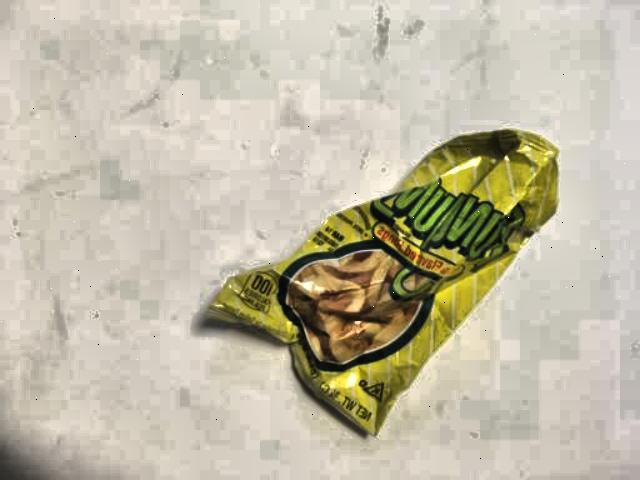Plastic: (193, 103, 576, 453)
